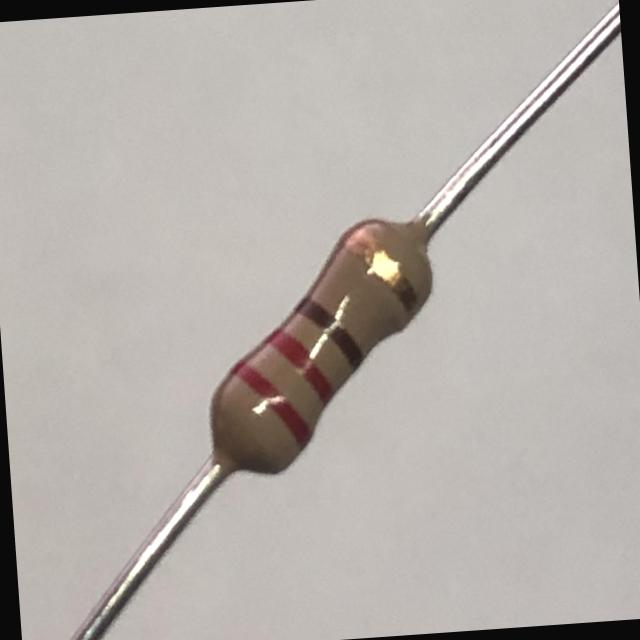Resistor: (210, 219, 432, 474)
brown: (296, 298, 364, 370)
gold: (338, 227, 423, 321)
red: (228, 359, 313, 450), (264, 328, 337, 406)
